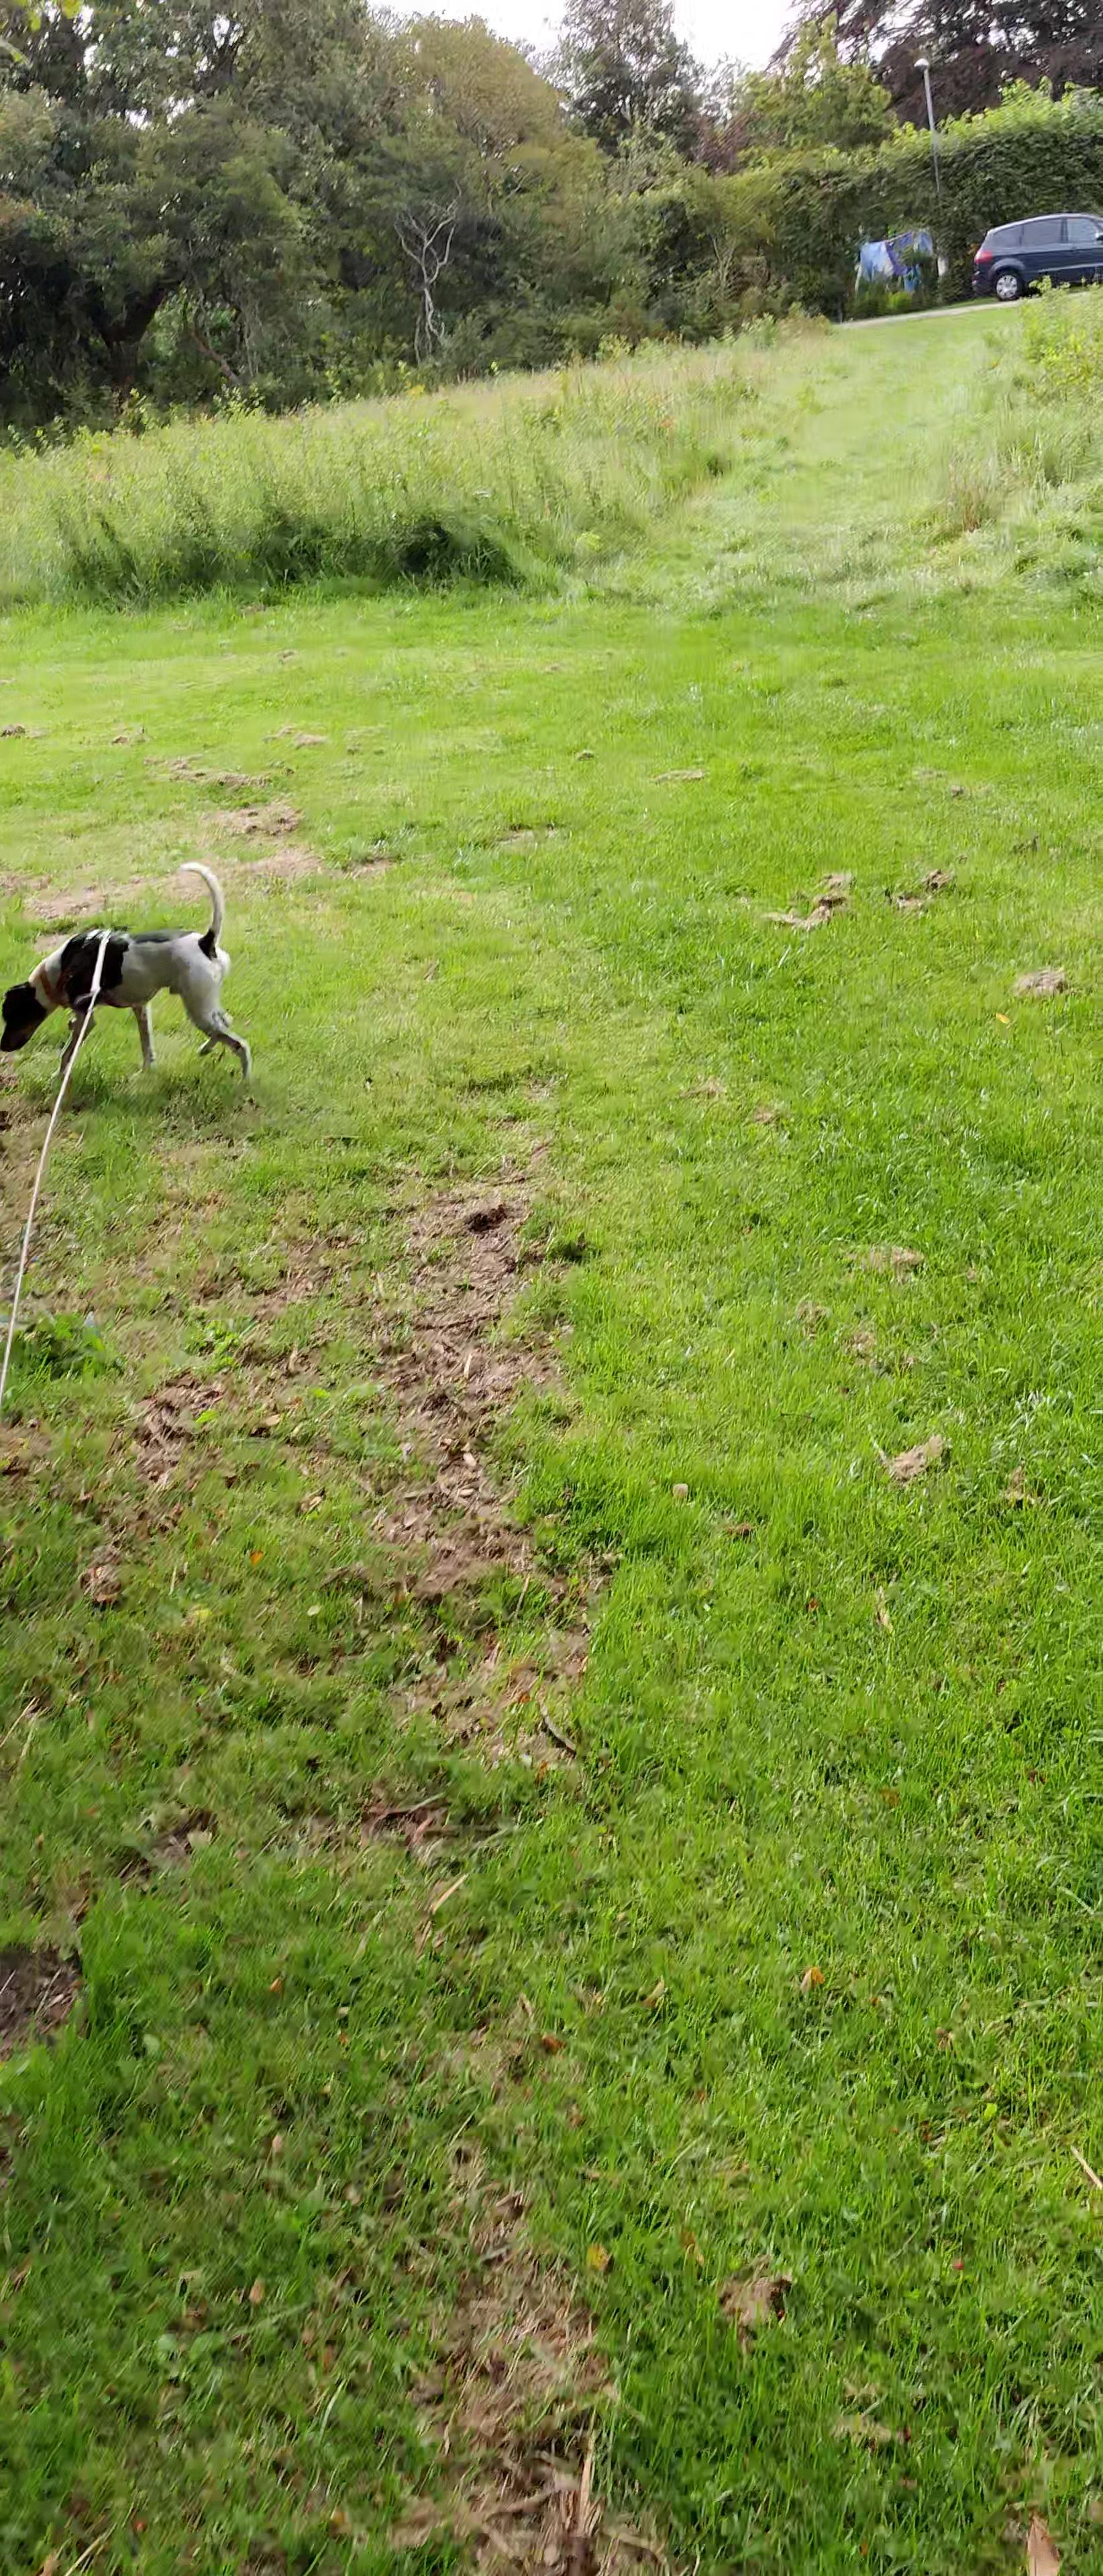Dog: (0, 859, 255, 1091)
